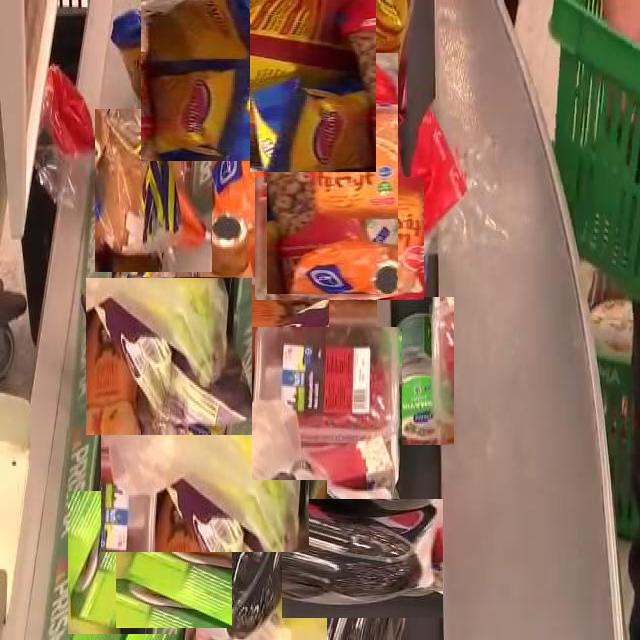beverage: (195, 471, 328, 640), (292, 489, 433, 629), (165, 243, 296, 376)
food-box: (240, 80, 426, 267), (85, 278, 252, 436), (227, 0, 399, 149), (252, 327, 402, 480), (126, 0, 280, 147), (266, 166, 413, 312), (94, 108, 212, 272), (376, 296, 454, 445)
fruit: (100, 342, 309, 552)
utility-box: (67, 490, 177, 634), (120, 524, 228, 632)
